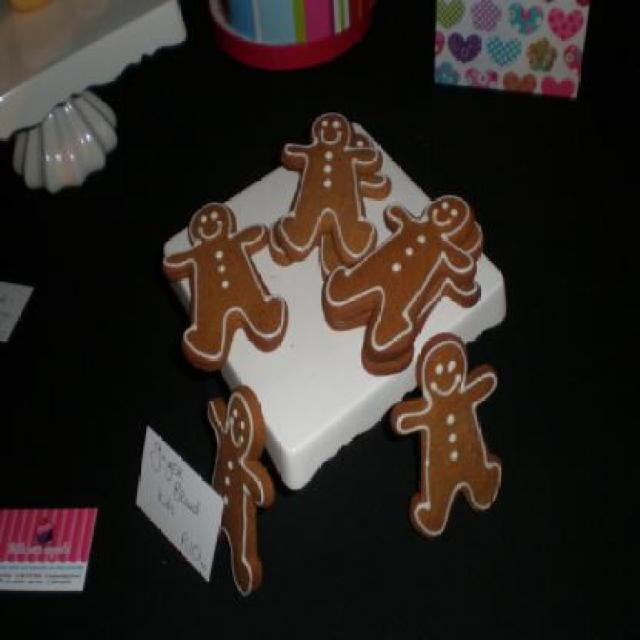Cookie: (270, 103, 482, 377), (390, 332, 506, 540), (160, 199, 288, 370), (204, 382, 278, 598)
